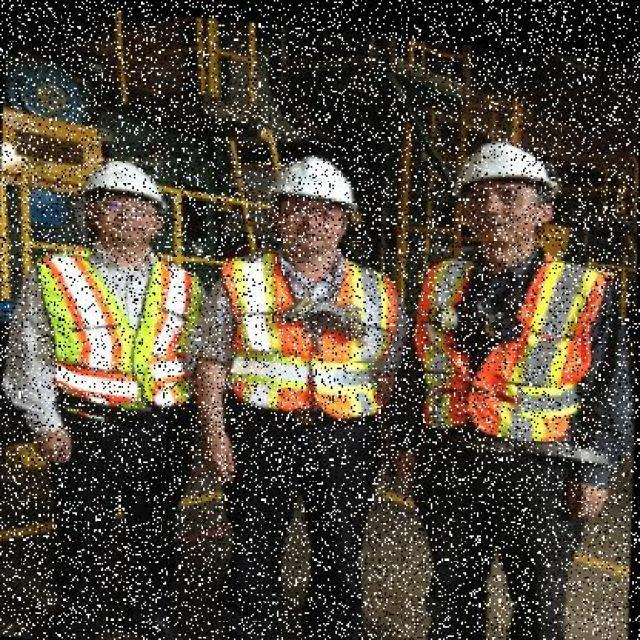helmet: (451, 126, 570, 185), (75, 148, 169, 210), (268, 150, 360, 207)
vest: (423, 234, 613, 456), (210, 235, 406, 439), (34, 246, 213, 424)
